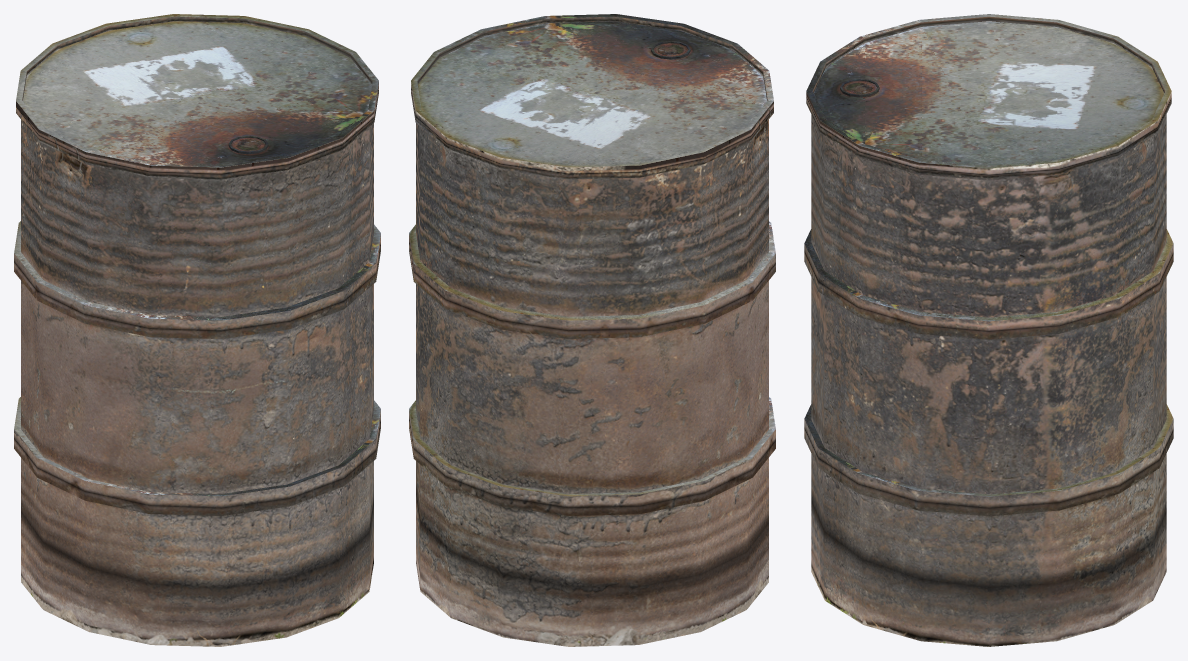
File: barrel.glb
3 renders of one model, left to right at view 1: azimuth 30°, elevation 25°; view 2: azimuth 150°, elevation 25°; view 3: azimuth 270°, elevation 25°, orthographic.
Visible parts, largest first — view 1: barrel -col; view 2: barrel -col; view 3: barrel -col.
Boxes of the visible parts, x1=… form: barrel -col: x1=14, y1=14, x2=380, y2=646; barrel -col: x1=409, y1=14, x2=775, y2=646; barrel -col: x1=804, y1=14, x2=1173, y2=646.
Size of the model in its own units: 0.5921 by 0.8503 by 0.5921.
Materials: 2 (2 with a texture image).
